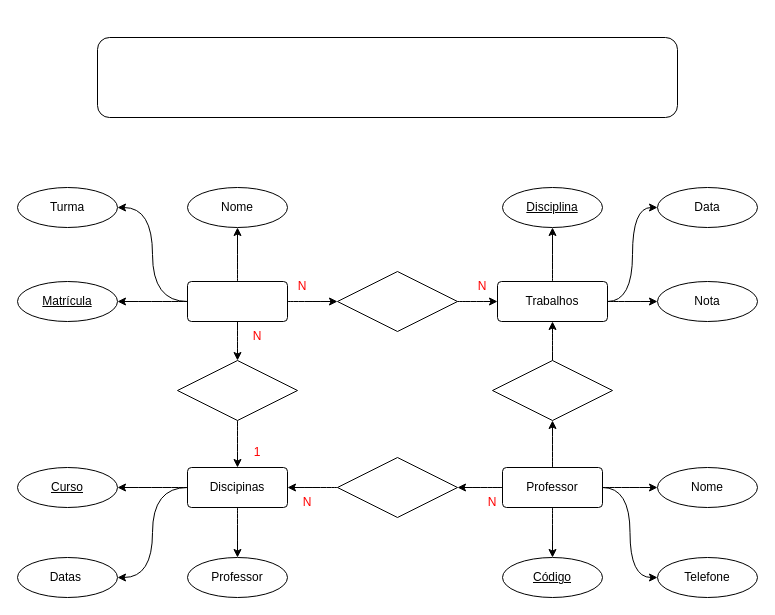
This 775x615 diagram has some shape labels left out. Each missing label, with the centre of its shape:
Aluno: (237,301)
Corrige: (552,390)
Diagrama - Exercício 9, Slide 2: (387,77)
Estuda: (237,390)
Fazem: (397,301)
Leciona: (397,487)
